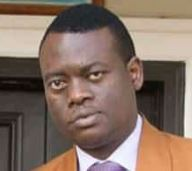without_facemask: (48, 96, 122, 147)
